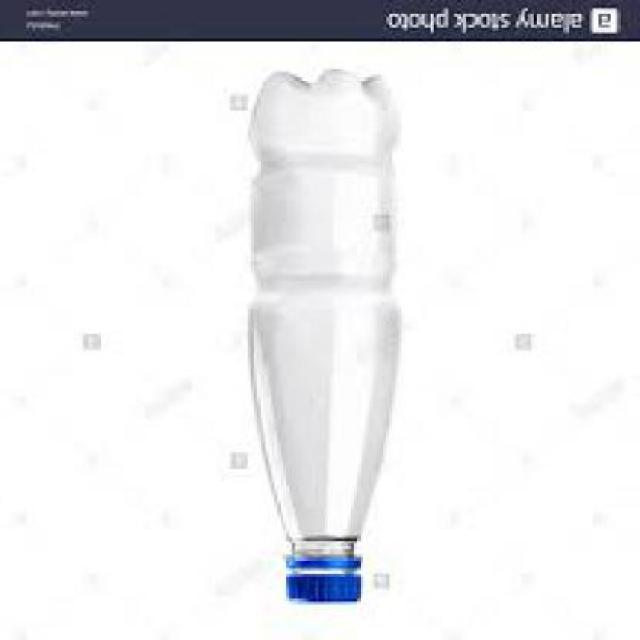PLASTIC: (250, 74, 404, 604), (289, 555, 366, 607)
